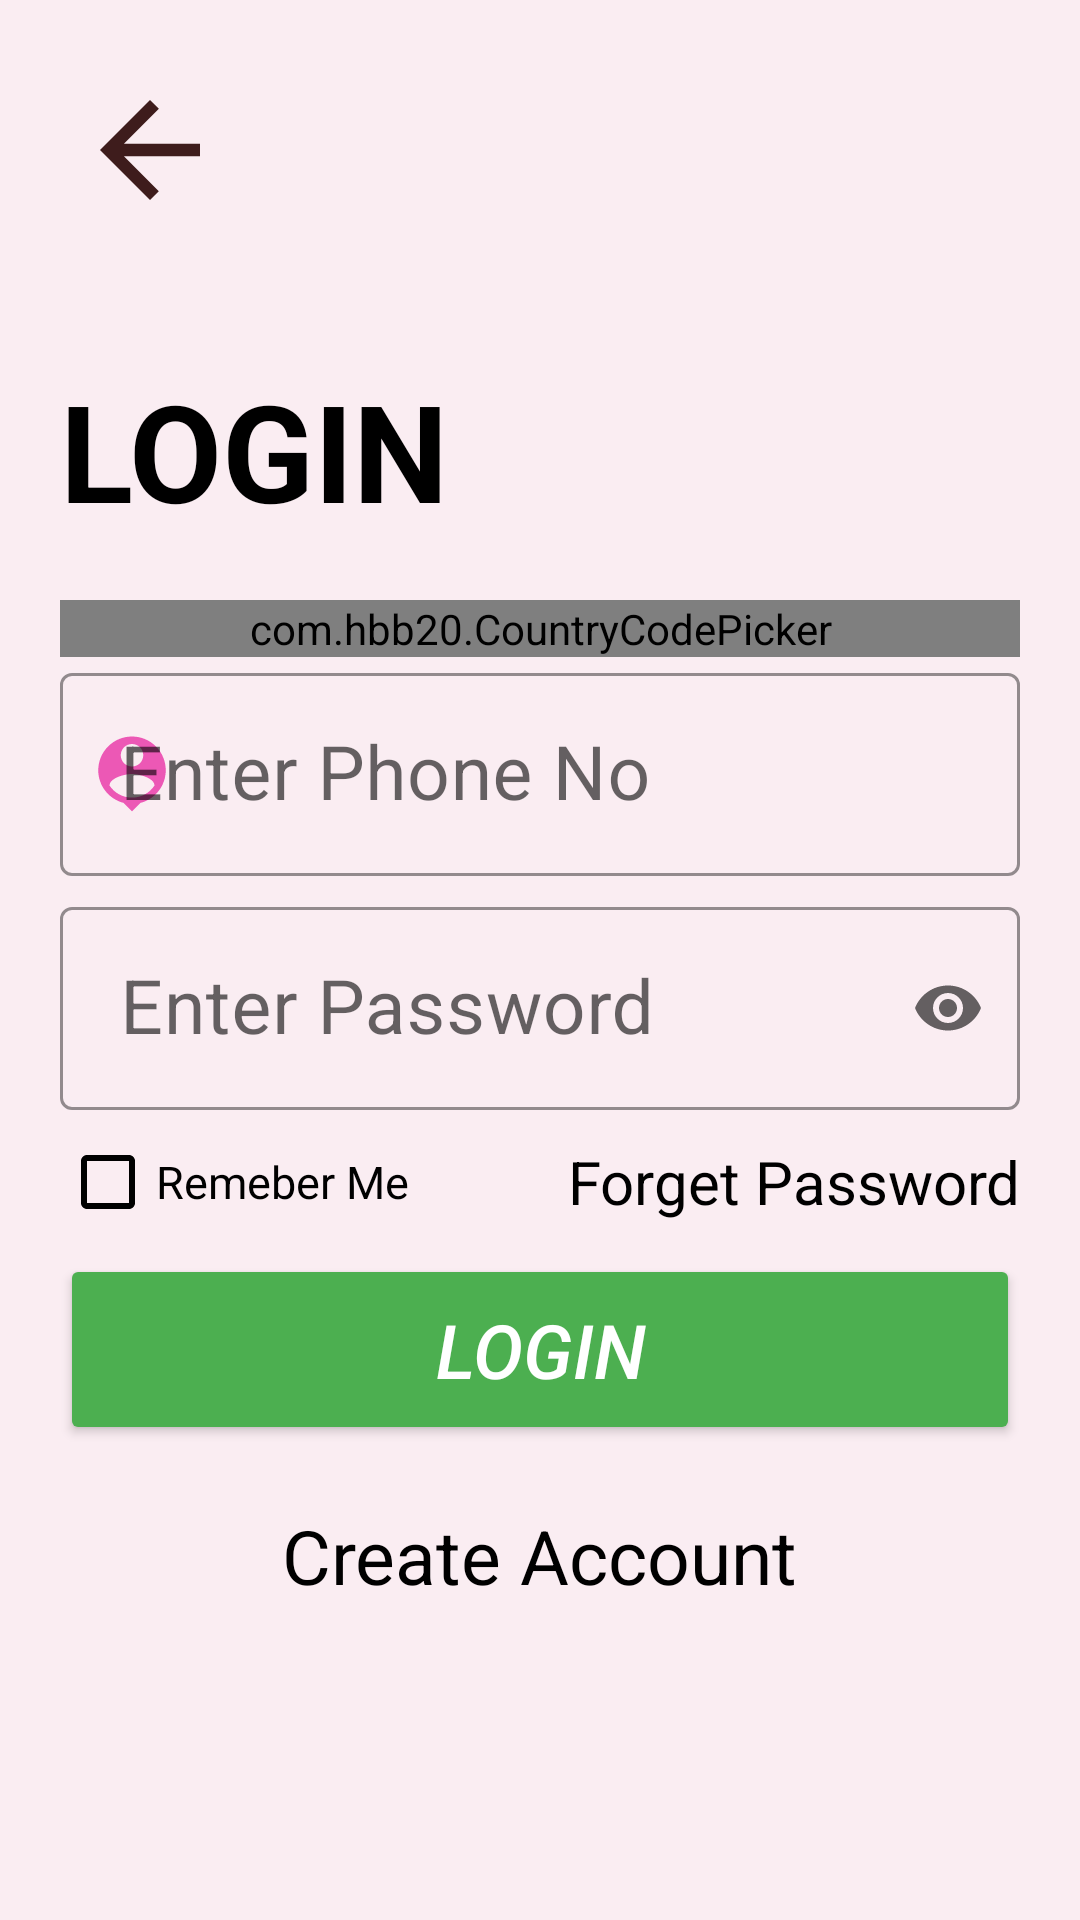

Named icons in this screenshot (1080×1920) and their centers, point (x, y):
arrow back: point (150, 150)
